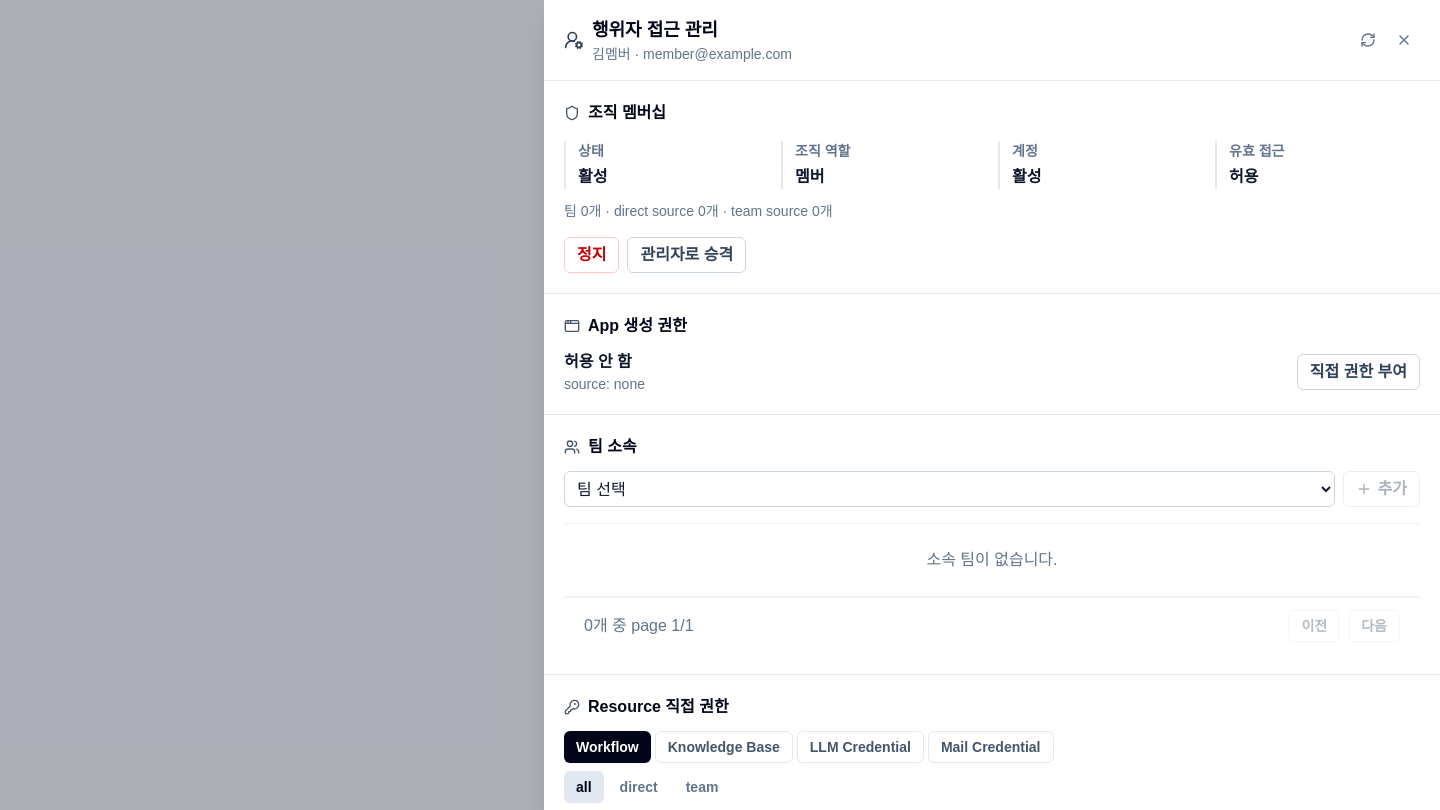
Test: ActorAccessDrawer › team/resource exact 조회 실패 시 absence precondition action을 차단한다
Expected: the text "김멤버 · member@example.com" is shown, [592,44,792,64]
Step 1. Select "Builders" in the dropdown named "추가할 팀" → x=949, y=489, box [564,471,1334,507]
(page scrolled)
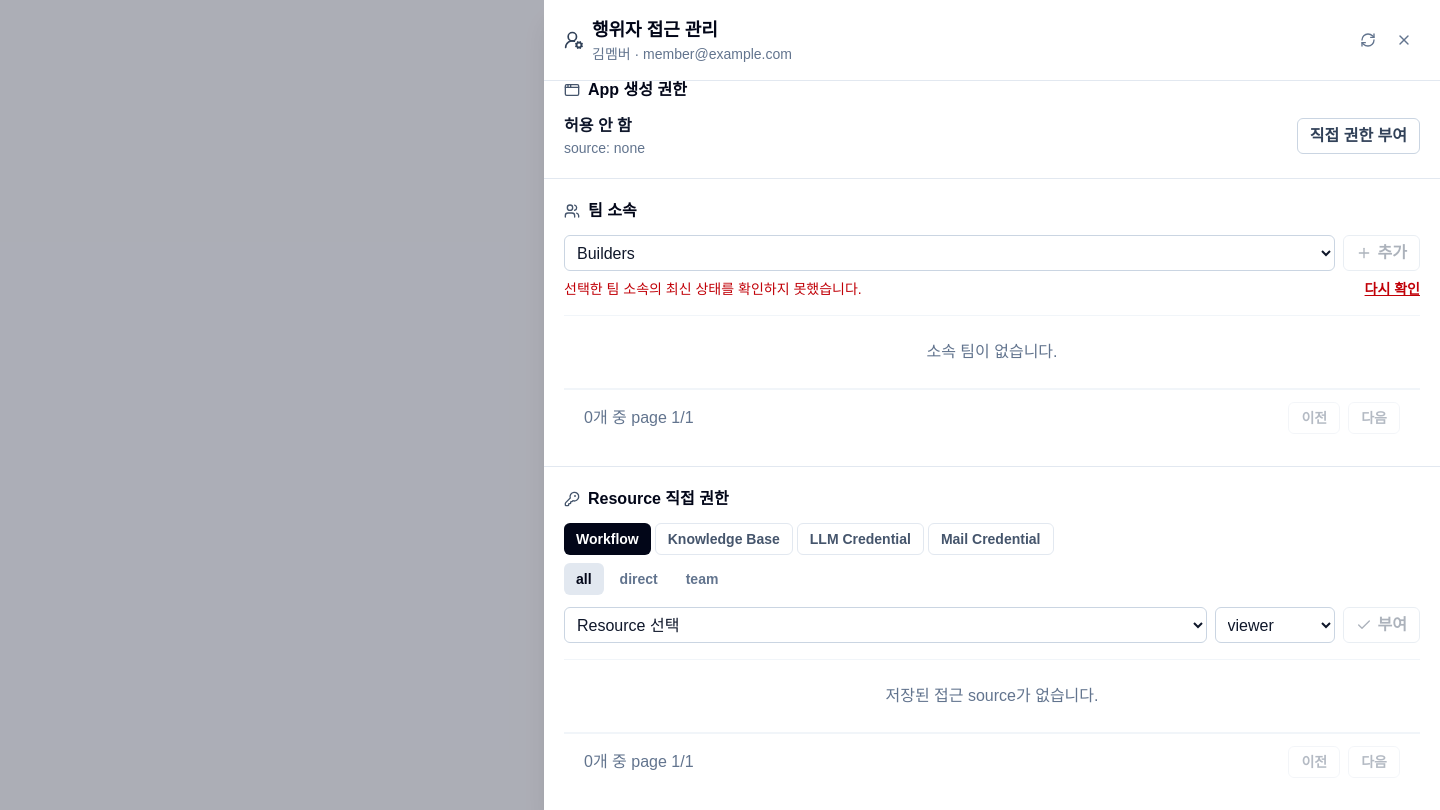
Expected: the button with aria-label "추가:" is disabled, [1342,235,1420,271]
Now the text "선택한 팀 소속의 최신 상태를 확인하지 못했습니다." is shown, box [564,279,862,299]
Step 2. Select "Workflow" in the dropdown named "직접 권한 resource" → x=885, y=625, box [564,607,1206,643]
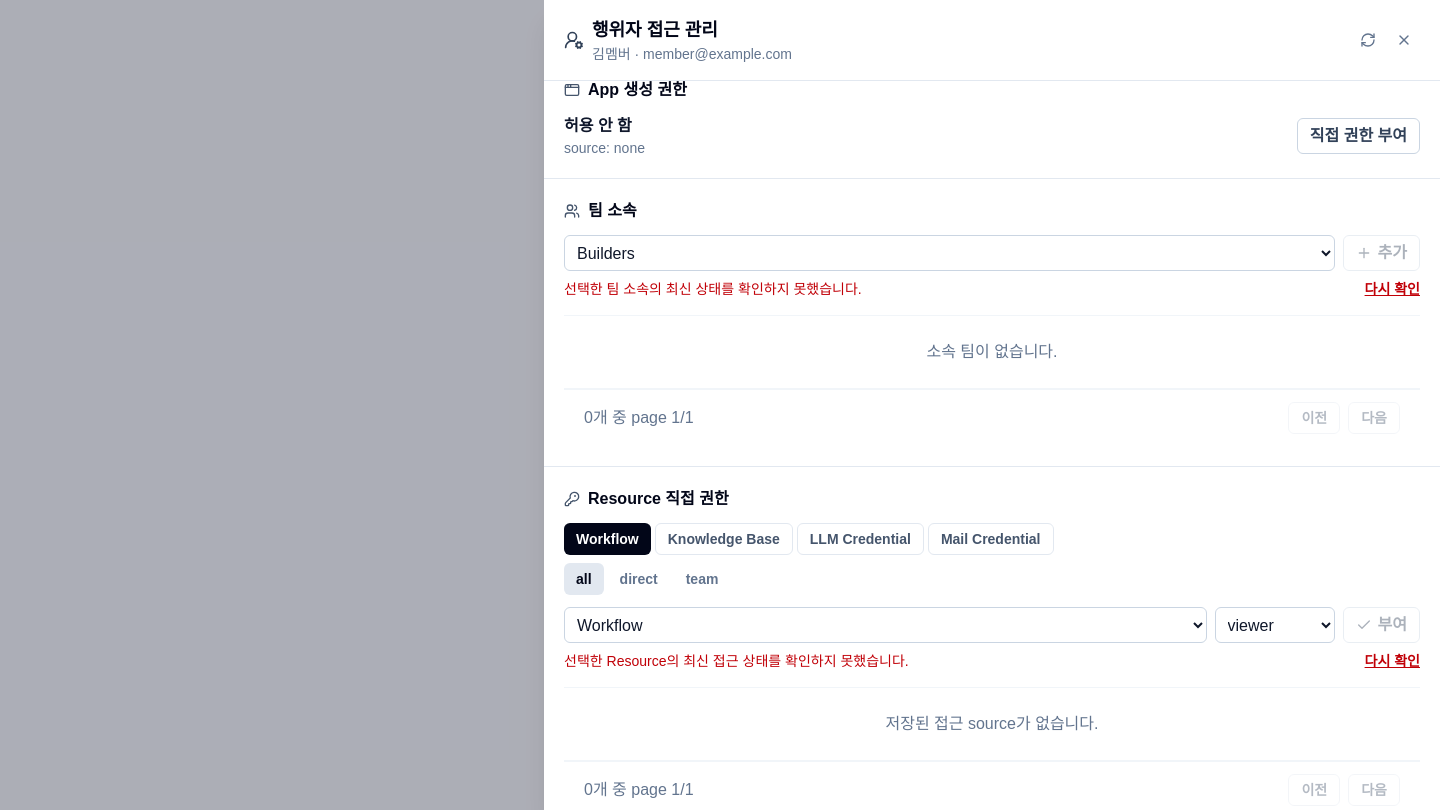
Now the button with aria-label "부여:" is disabled, box [1342,607,1420,643]
Now the text "선택한 Resource의 최신 접근 상태를 확인하지 못했습니다." is shown, box [564,651,909,671]
